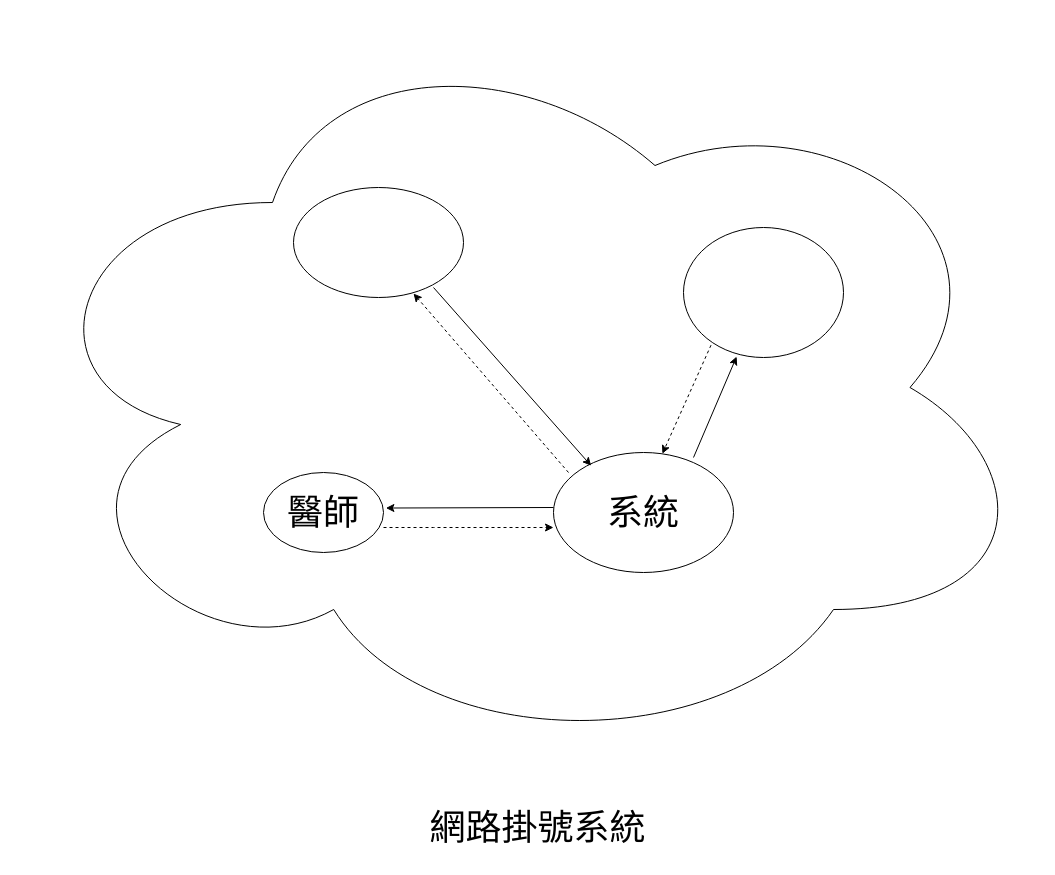
This 1055x875 diagram has some shape labels left out. The shapes that lost their labels are listed below. From the top down, each one's centre as x and y in pixels, then its label:
(378,242): 病患
(763,292): 病患資料
